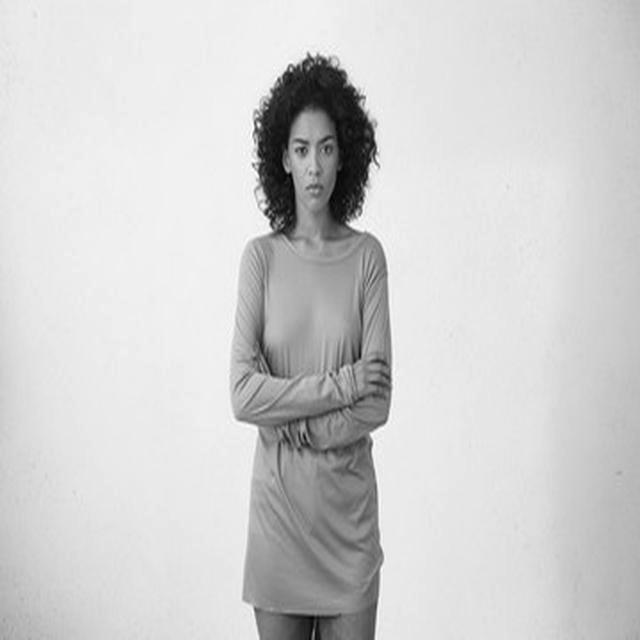Angry: (288, 110, 338, 212)
